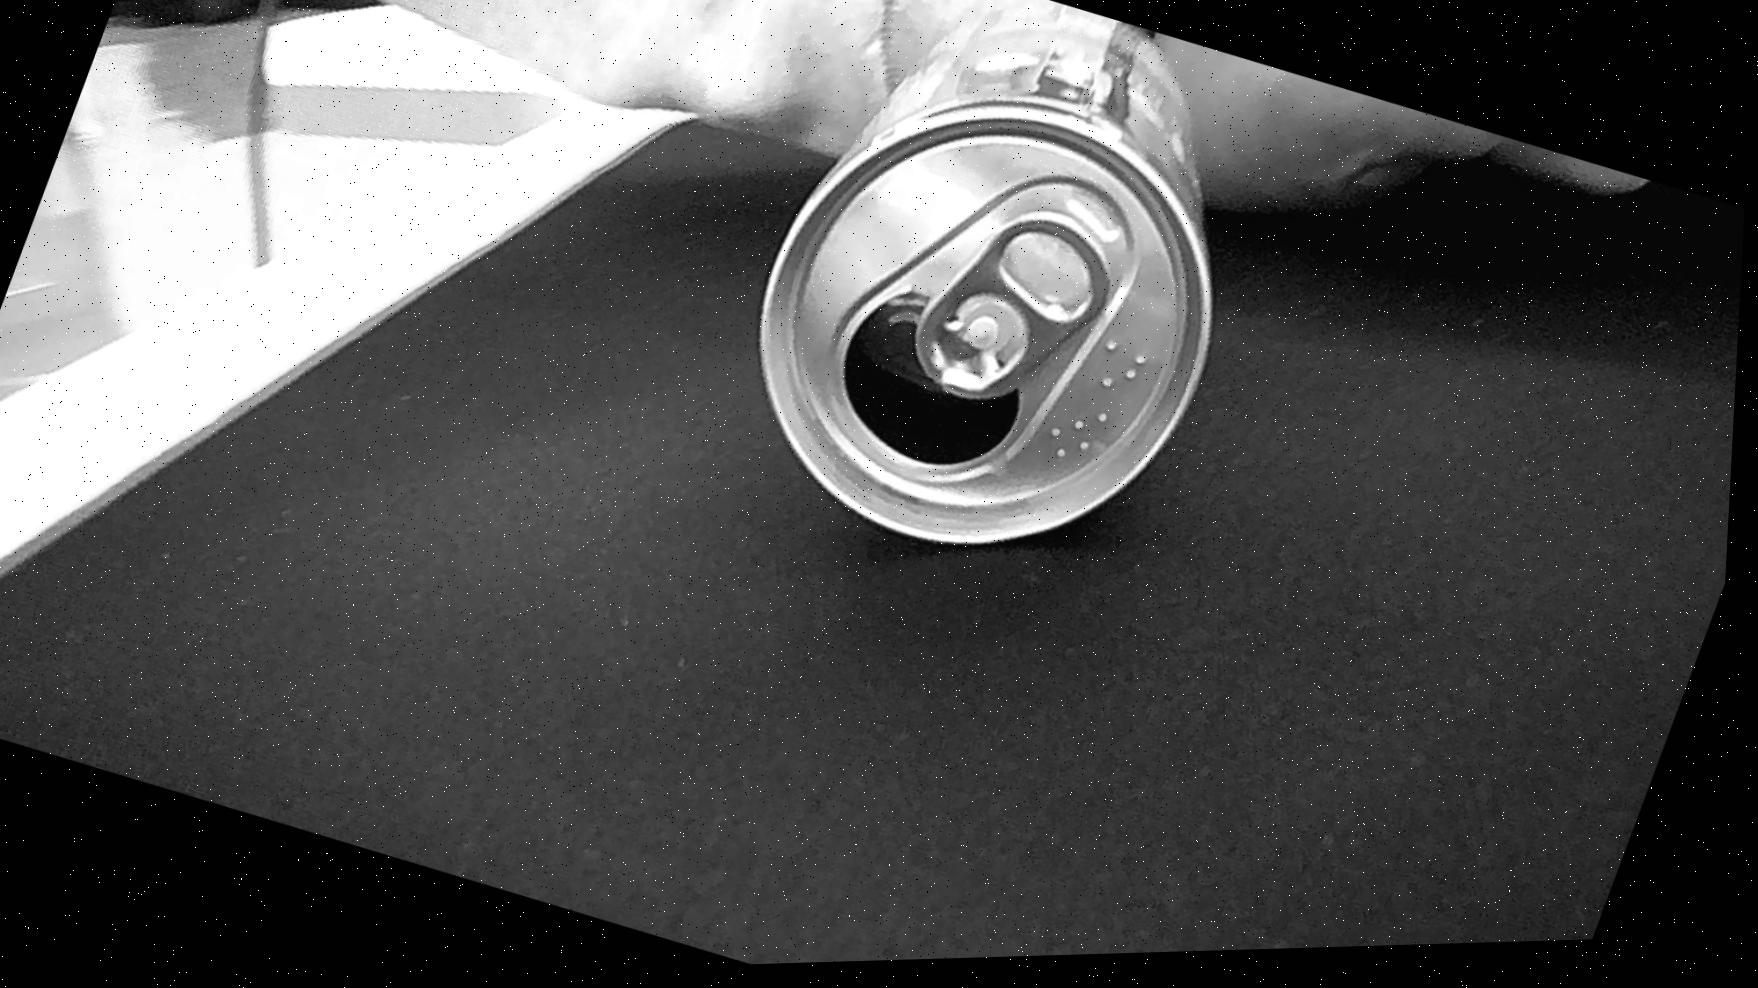letsbe: (695, 0, 1318, 616)
